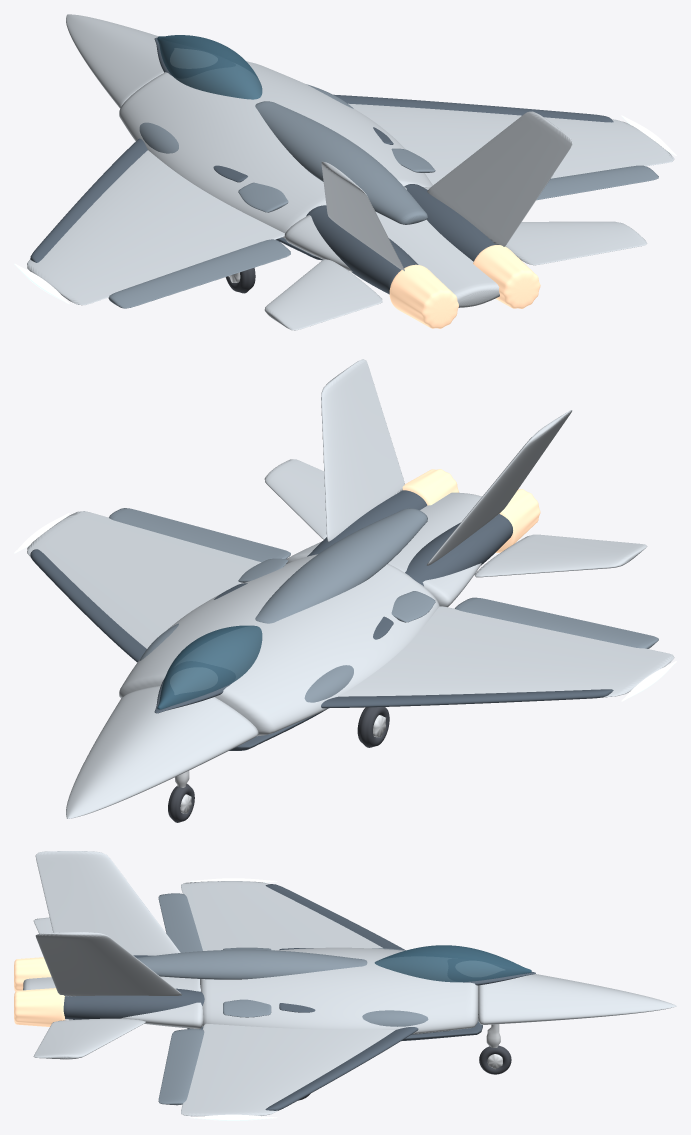
The model's file is aeris-x9.glb.
3 views of the same model, one above another, from view 1: azimuth 30°, elevation 25°; view 2: azimuth 150°, elevation 25°; view 3: azimuth 270°, elevation 25° (orthographic). The views are drawn at different scales.
Visible parts, largest first — view 1: AX9__CORE__CENTER__MAIN_FUSELAGE, AX9__SURFACE__LEFT__WING_LEFT, AX9__SURFACE__RIGHT__WING_RIGHT, AX9__SURFACE__RIGHT__FIN_RIGHT, AX9__CORE__CENTER__UPPER_SPINE, AX9__CORE__CENTER__REAR_FUSELAGE, AX9__CORE__CENTER__NOSE_SHELL, AX9__SURFACE__LEFT__STABILIZER_LEFT, AX9__CANOPY__CENTER__CANOPY_GLASS, AX9__SURFACE__RIGHT__STABILIZER_RIGHT, AX9__SURFACE__LEFT__ELEVON_LEFT, AX9__SURFACE__LEFT__FIN_LEFT (+10 smaller); view 2: AX9__CORE__CENTER__MAIN_FUSELAGE, AX9__SURFACE__LEFT__WING_LEFT, AX9__SURFACE__RIGHT__WING_RIGHT, AX9__CORE__CENTER__NOSE_SHELL, AX9__SURFACE__RIGHT__FIN_RIGHT, AX9__CORE__CENTER__UPPER_SPINE, AX9__CANOPY__CENTER__CANOPY_GLASS, AX9__SURFACE__LEFT__STABILIZER_LEFT, AX9__CORE__CENTER__REAR_FUSELAGE, AX9__SURFACE__LEFT__FIN_LEFT, AX9__DUCT__LEFT__REAR_SHROUD_LEFT, AX9__SURFACE__LEFT__ELEVON_LEFT (+10 smaller); view 3: AX9__CORE__CENTER__MAIN_FUSELAGE, AX9__SURFACE__RIGHT__WING_RIGHT, AX9__SURFACE__LEFT__WING_LEFT, AX9__SURFACE__LEFT__FIN_LEFT, AX9__CORE__CENTER__NOSE_SHELL, AX9__SURFACE__RIGHT__FIN_RIGHT, AX9__CORE__CENTER__UPPER_SPINE, AX9__CANOPY__CENTER__CANOPY_GLASS, AX9__SURFACE__RIGHT__STABILIZER_RIGHT, AX9__DUCT__RIGHT__REAR_SHROUD_RIGHT, AX9__SURFACE__RIGHT__ELEVON_RIGHT, AX9__CORE__CENTER__REAR_FUSELAGE (+10 smaller).
Part boxes in pixels (x1,y1,x2,y2): AX9__CORE__CENTER__MAIN_FUSELAGE: [119, 61, 432, 238]; AX9__SURFACE__LEFT__WING_LEFT: [27, 150, 284, 305]; AX9__SURFACE__RIGHT__WING_RIGHT: [348, 103, 674, 185]; AX9__SURFACE__RIGHT__FIN_RIGHT: [427, 111, 572, 246]; AX9__CORE__CENTER__UPPER_SPINE: [255, 101, 427, 224]; AX9__CORE__CENTER__REAR_FUSELAGE: [284, 186, 499, 307]; AX9__CORE__CENTER__NOSE_SHELL: [66, 14, 163, 108]; AX9__SURFACE__LEFT__STABILIZER_LEFT: [264, 259, 382, 330]; AX9__CANOPY__CENTER__CANOPY_GLASS: [157, 35, 262, 99]; AX9__SURFACE__RIGHT__STABILIZER_RIGHT: [505, 221, 647, 265]; AX9__SURFACE__LEFT__ELEVON_LEFT: [108, 239, 290, 308]; AX9__SURFACE__LEFT__FIN_LEFT: [321, 161, 404, 270]; AX9__CORE__CENTER__MAIN_FUSELAGE: [119, 554, 439, 736]; AX9__SURFACE__LEFT__WING_LEFT: [340, 606, 674, 697]; AX9__SURFACE__RIGHT__WING_RIGHT: [27, 511, 261, 648]; AX9__CORE__CENTER__NOSE_SHELL: [66, 686, 258, 818]; AX9__SURFACE__RIGHT__FIN_RIGHT: [321, 359, 404, 541]; AX9__CORE__CENTER__UPPER_SPINE: [255, 508, 427, 623]; AX9__CANOPY__CENTER__CANOPY_GLASS: [157, 625, 262, 709]; AX9__SURFACE__LEFT__STABILIZER_LEFT: [474, 534, 647, 577]; AX9__CORE__CENTER__REAR_FUSELAGE: [286, 492, 481, 607]; AX9__SURFACE__LEFT__FIN_LEFT: [426, 410, 572, 565]; AX9__DUCT__LEFT__REAR_SHROUD_LEFT: [405, 514, 512, 586]; AX9__SURFACE__LEFT__ELEVON_LEFT: [455, 597, 658, 648]; AX9__CORE__CENTER__MAIN_FUSELAGE: [200, 947, 478, 1033]; AX9__SURFACE__RIGHT__WING_RIGHT: [181, 1023, 395, 1116]; AX9__SURFACE__LEFT__WING_LEFT: [181, 881, 382, 950]; AX9__SURFACE__LEFT__FIN_LEFT: [35, 851, 180, 955]; AX9__CORE__CENTER__NOSE_SHELL: [478, 974, 676, 1024]; AX9__SURFACE__RIGHT__FIN_RIGHT: [35, 932, 181, 996]; AX9__CORE__CENTER__UPPER_SPINE: [137, 949, 367, 979]; AX9__CANOPY__CENTER__CANOPY_GLASS: [374, 945, 531, 982]; AX9__SURFACE__RIGHT__STABILIZER_RIGHT: [33, 1018, 145, 1059]; AX9__DUCT__RIGHT__REAR_SHROUD_RIGHT: [63, 988, 204, 1019]; AX9__SURFACE__RIGHT__ELEVON_RIGHT: [158, 1029, 204, 1105]; AX9__CORE__CENTER__REAR_FUSELAGE: [23, 976, 203, 1028].
Size of the model in its own units: 9.4 by 3.34 by 10.95.
